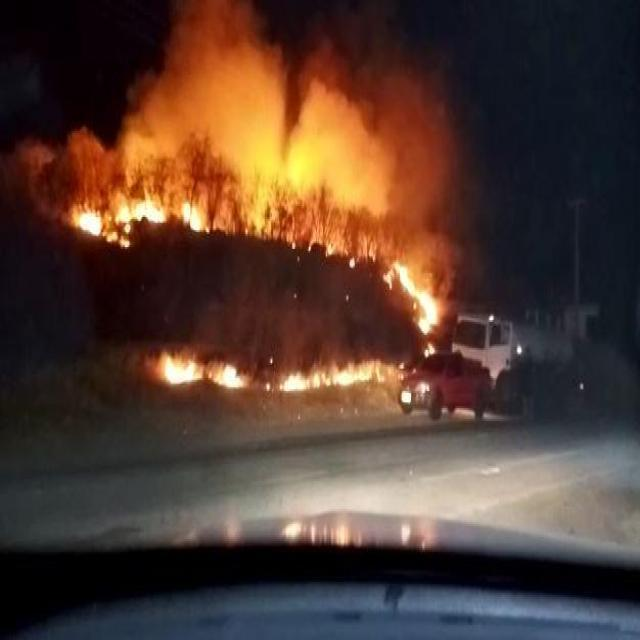Fire: (212, 150, 380, 266), (136, 343, 418, 408), (62, 173, 206, 256), (382, 255, 442, 334)
Smoke: (116, 8, 452, 146), (383, 147, 455, 248), (1, 138, 59, 236), (59, 128, 112, 170)
